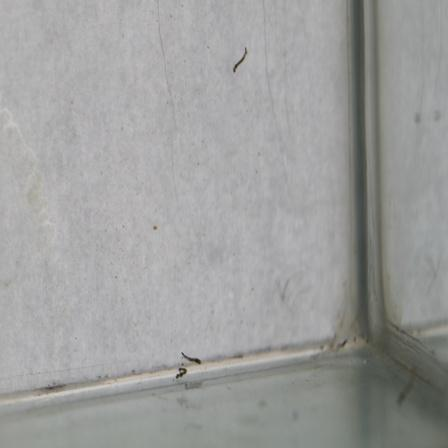Jentik-Nyamuk: (226, 43, 255, 75), (178, 348, 204, 365), (173, 366, 189, 382)
